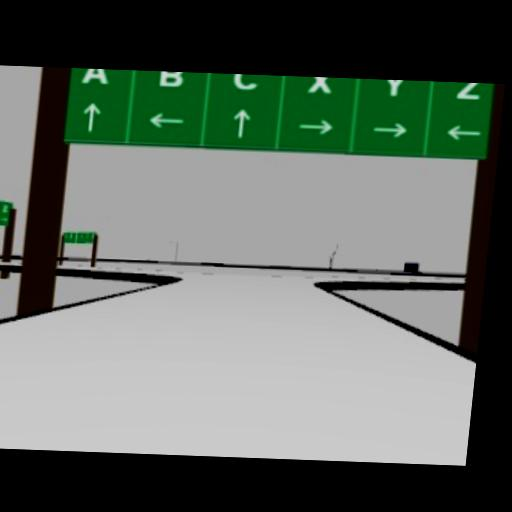A: (80, 68, 109, 84)
B: (158, 71, 185, 87)
C: (231, 73, 260, 89)
Left: (443, 123, 483, 142), (147, 112, 185, 129)
Right: (298, 118, 334, 136), (371, 121, 407, 139)
Straight: (231, 107, 251, 138), (80, 101, 101, 130)
X: (306, 76, 333, 92)
Y: (379, 79, 408, 97)
Z: (455, 82, 482, 100)
